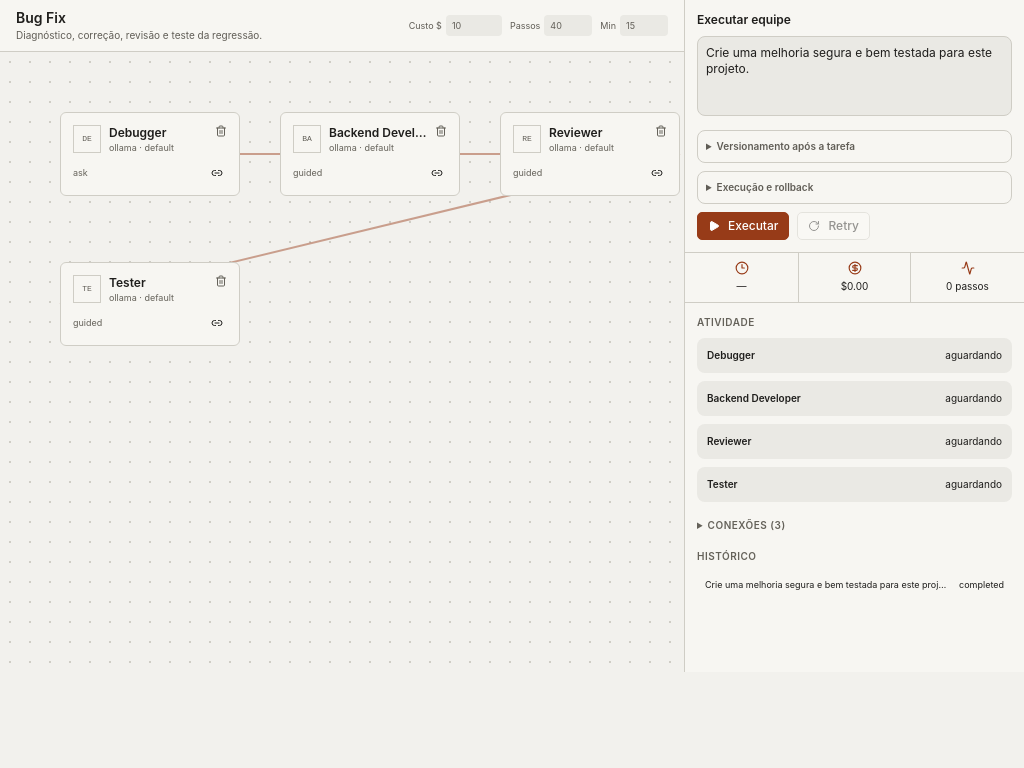
it: sistema visual de agentes › exige autorizações separadas antes de permitir PR automático
This screenshot has width=1024, height=768.
What coordinates should you click on to do the following:
click the heading "Versionamento após a tarefa"
I would click on:
 (786, 146)
Its box is [717,140,855,152].
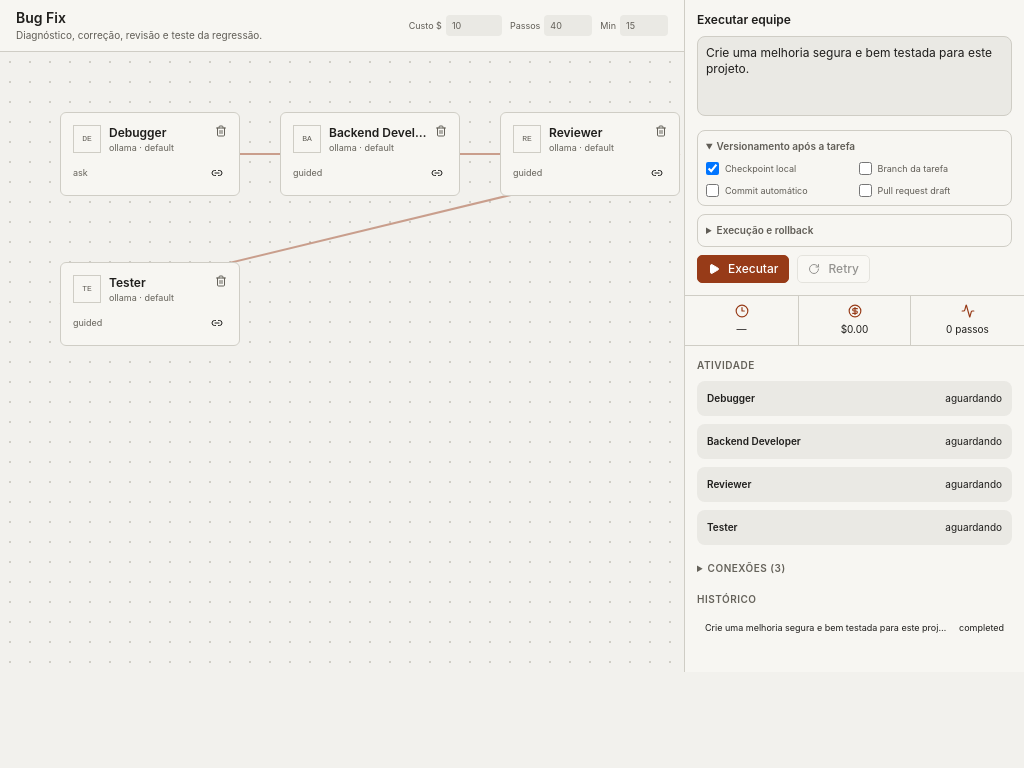
What coordinates should you click on to do the following:
click the checkbox labelled "Pull request draft"
I would click on:
 (865, 190)
Its box is [858,184,872,197].
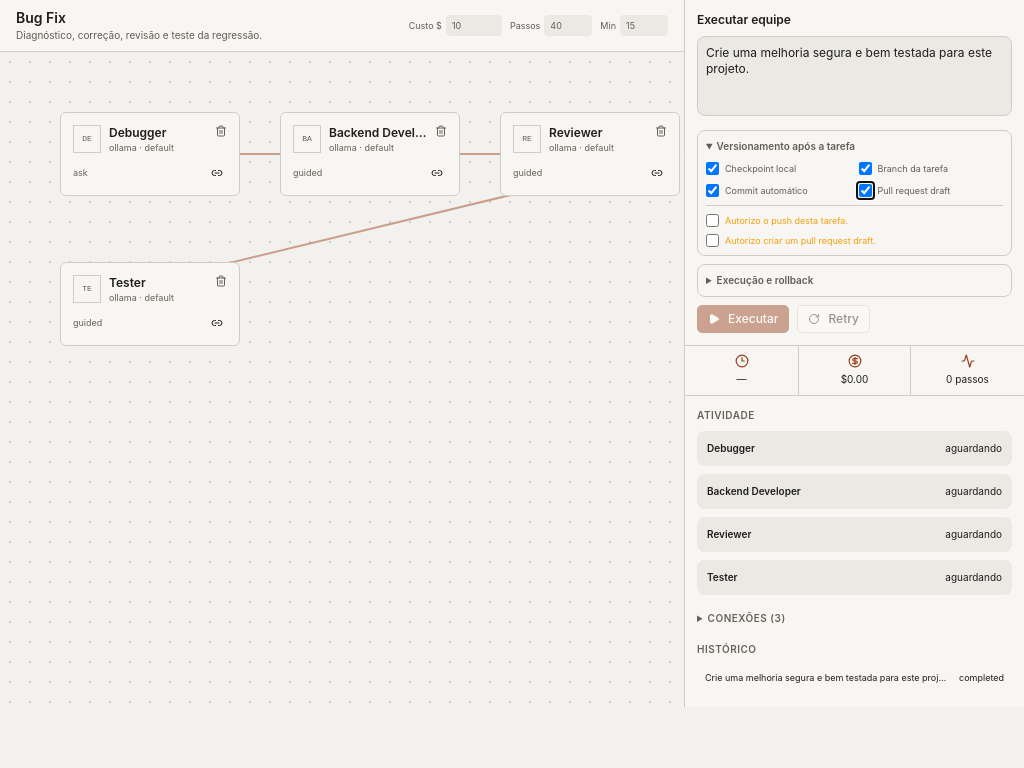
Check: the button "Executar" is disabled, box [697,305,790,333]
What coordinates should you click on to do the following:
click the checkbox labelled "Autorizo o push desta tarefa."
I would click on:
 (712, 220)
Its box is [706,214,719,227].
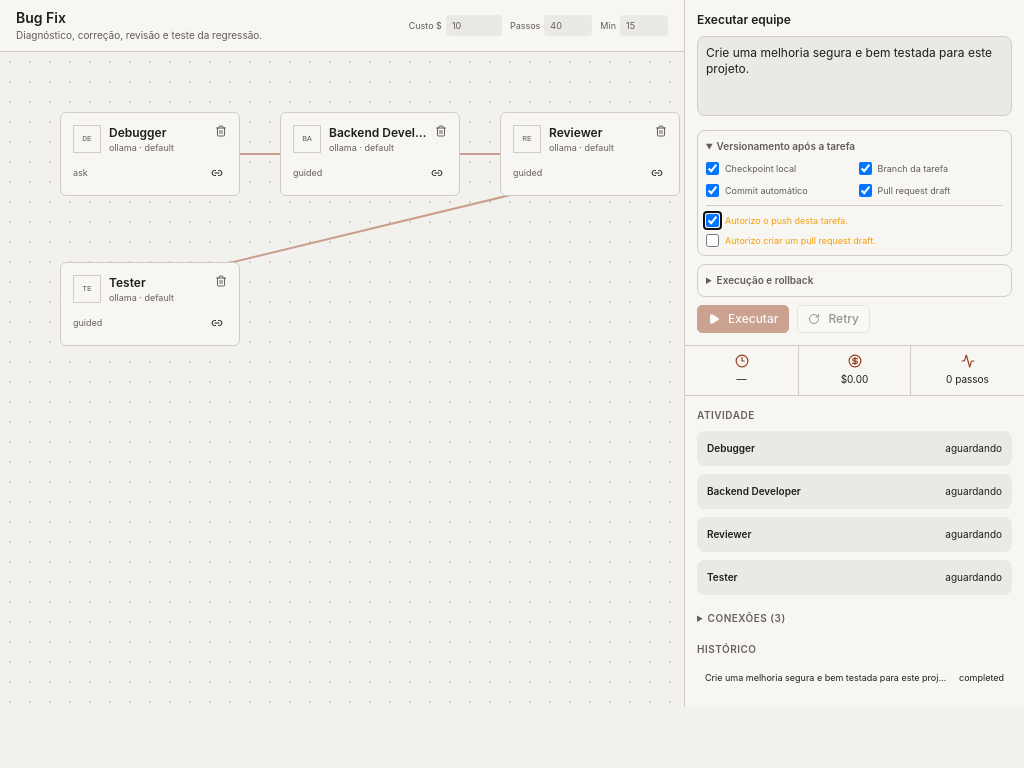
Check: the button "Executar" is disabled, box [697,305,790,333]
What coordinates should you click on to do the following:
click the checkbox labelled "Autorizo criar um pull request draft."
I would click on:
 (712, 240)
Its box is [706,234,719,246].
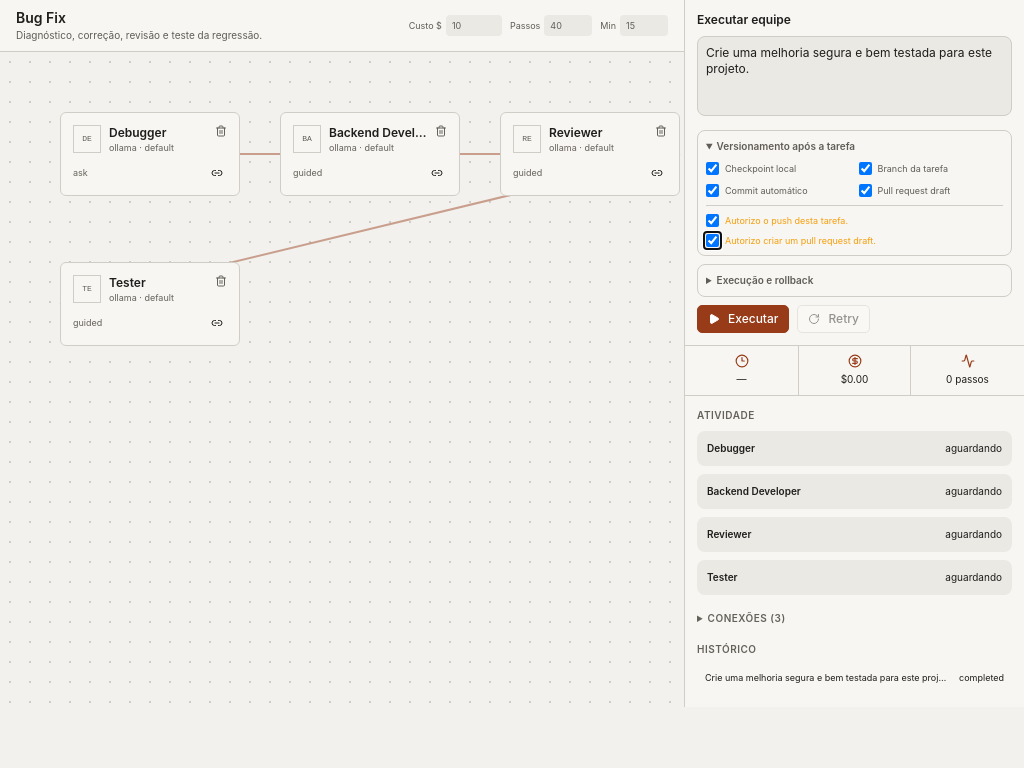
Check: the button "Executar" is enabled, box [697,305,790,333]
